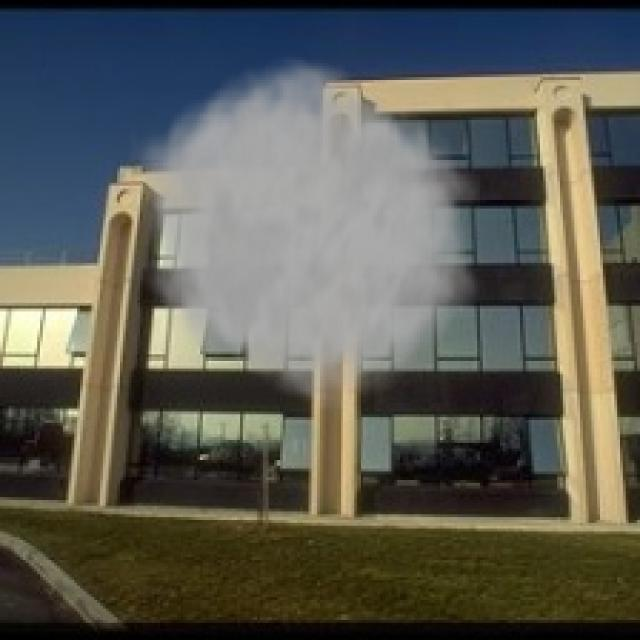smoke: (126, 49, 480, 417)
